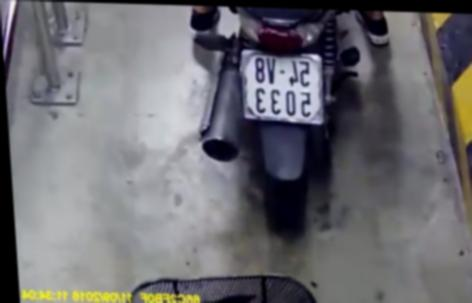License_Plate: (230, 46, 331, 131)
